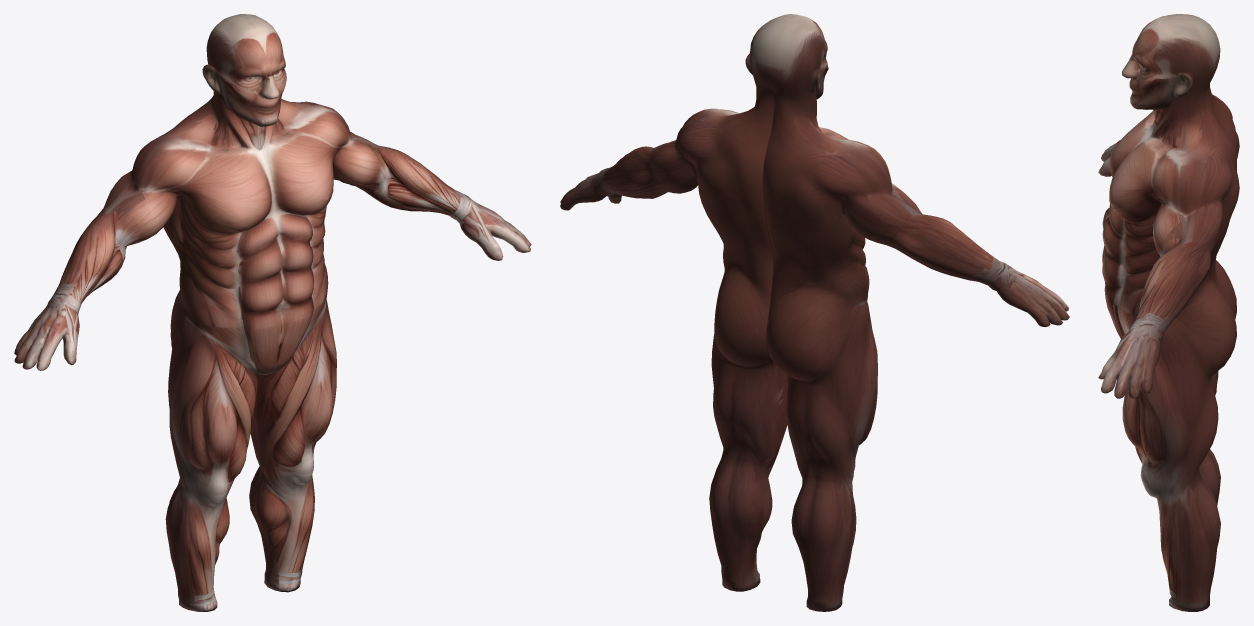
File: muscle.glb
The picture shows the model from 3 angles, left to right: view 1: azimuth 30°, elevation 25°; view 2: azimuth 150°, elevation 25°; view 3: azimuth 270°, elevation 25°; orthographic projection. The views are drawn at different scales.
Visible parts, largest first — view 1: part_00000001; view 2: part_00000001; view 3: part_00000001.
Part boxes in pixels (<box>): part_00000001: <box>14,14,531,611</box>; part_00000001: <box>560,14,1069,611</box>; part_00000001: <box>1098,14,1239,611</box>.
Size of the model in its own units: 1.08 by 1.17 by 0.2647.
Materials: 1 (1 with a texture image).
